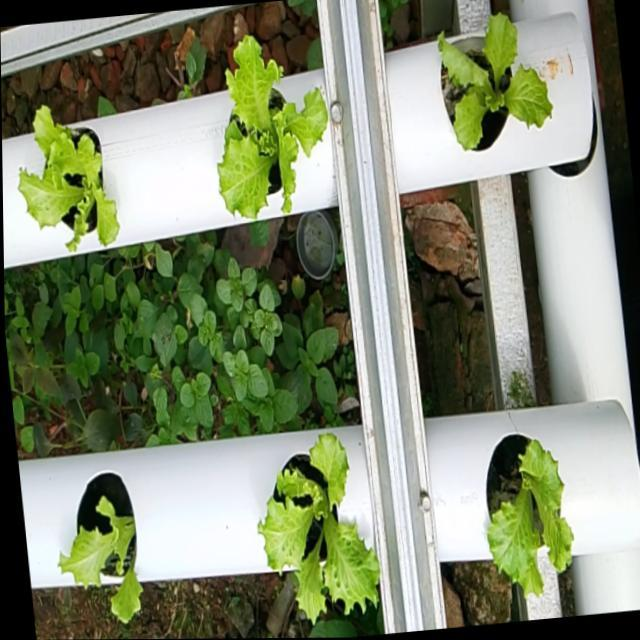Baby: (258, 433, 380, 626), (217, 35, 328, 220), (437, 12, 553, 152), (18, 105, 119, 251), (486, 433, 573, 595), (59, 470, 142, 621)
